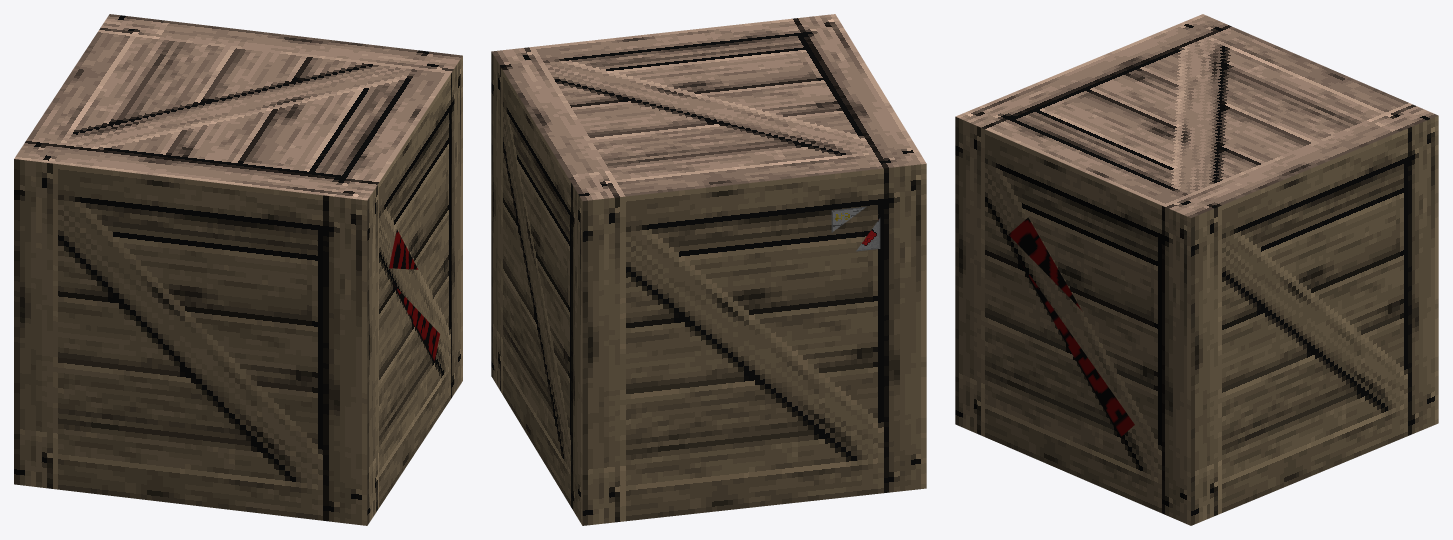
The model's file is primary_164.glb.
The picture shows the model from 3 angles, left to right: view 1: azimuth 30°, elevation 25°; view 2: azimuth 150°, elevation 25°; view 3: azimuth 270°, elevation 25°; orthographic projection. The views are drawn at different scales.
Parts seen in each view (by area): view 1: Object; view 2: Object; view 3: Object.
Part boxes in pixels (x1,y1,x2,y2): Object: (14, 14, 462, 525); Object: (491, 14, 926, 525); Object: (955, 14, 1438, 525).
Size of the model in its own units: 1.93 by 1.36 by 1.93.
Materials: 7 (7 with a texture image).
